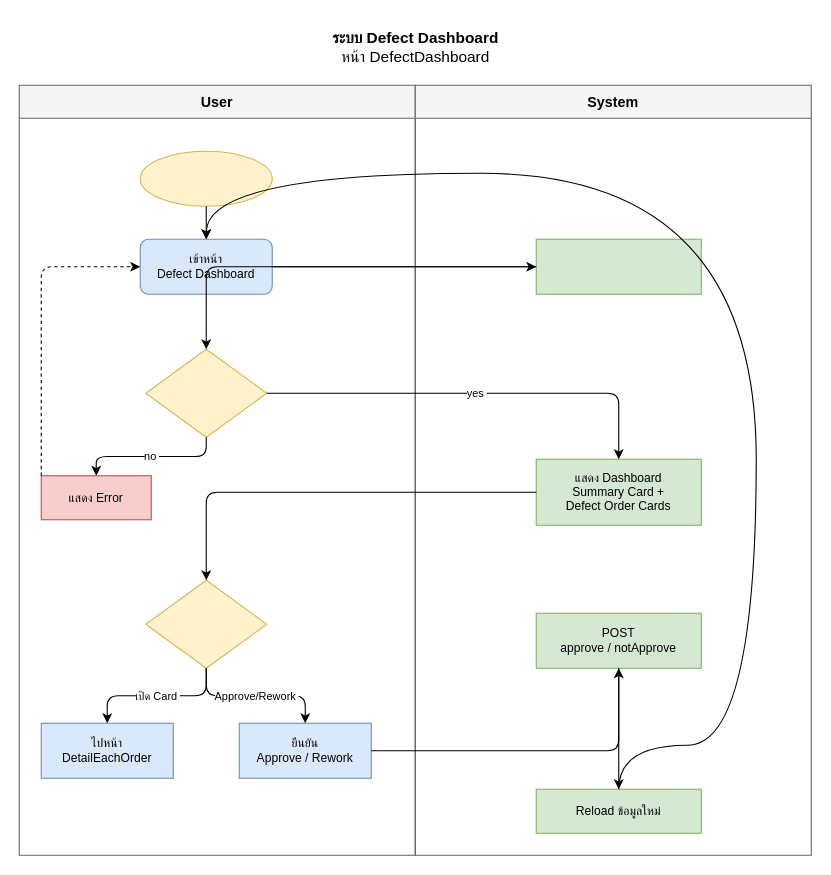
This 831x875 diagram has some shape labels left out. The shapes that lost their labels are listed below. From the top down, each one's centre as x and y in pixels, then its label:
pixel 205 178: เริ่มต้น
pixel 618 266: GET /WorkOrderList/Defect
pixel 206 392: โหลดข้อมูล สำเร็จ?
pixel 206 623: เลือก Action
